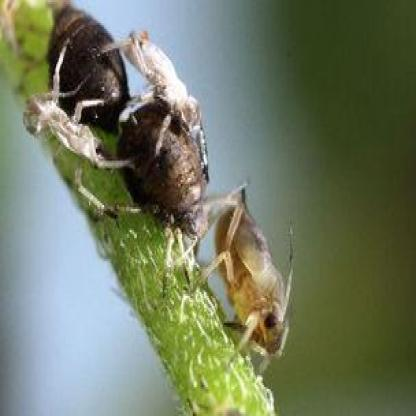aphid: (187, 178, 305, 360), (117, 84, 213, 240), (124, 19, 222, 171), (34, 0, 142, 126), (30, 80, 121, 188)
